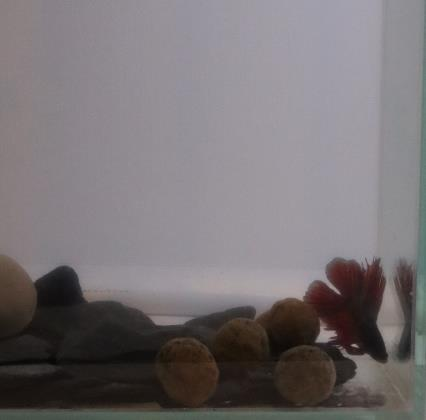fish: (301, 256, 393, 365)
